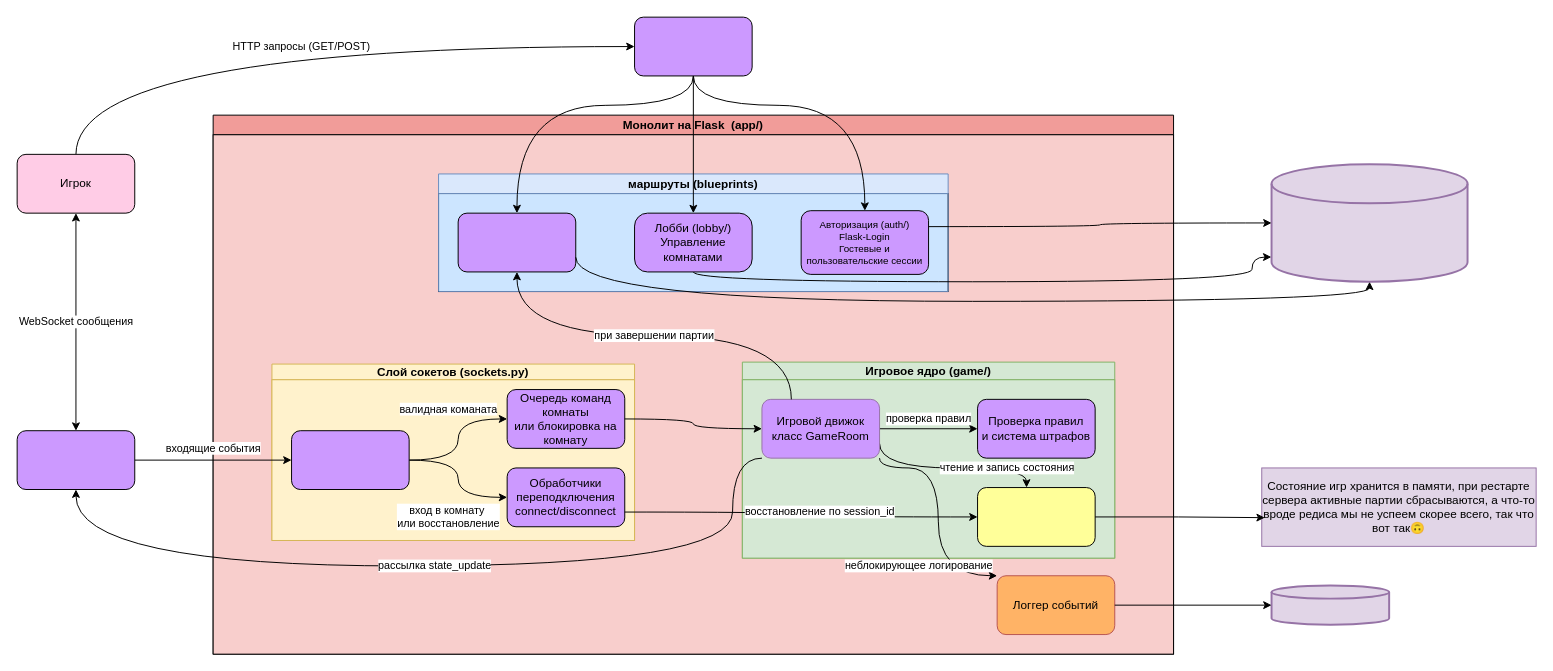
Some shapes in this 1553 by 671 pixel diagram are drawn without their labels. The centre of each missing label's shape, as x and y in pixels:
app.log: point (1330, 604)
Flask Web Server Jinja2 Templates: point (693, 46)
Flask-SocketIO Gateway: point (75, 460)
PostgreSQL Пользователи, комнаты, партии, статис тика: point (1369, 222)
Активные комнаты словарь в памяти: point (1036, 516)
Проверка доступа к сокет-событиям сессия + комната + очередь хода: point (350, 460)
Профиль (profile/) статистика игрока: point (516, 242)
